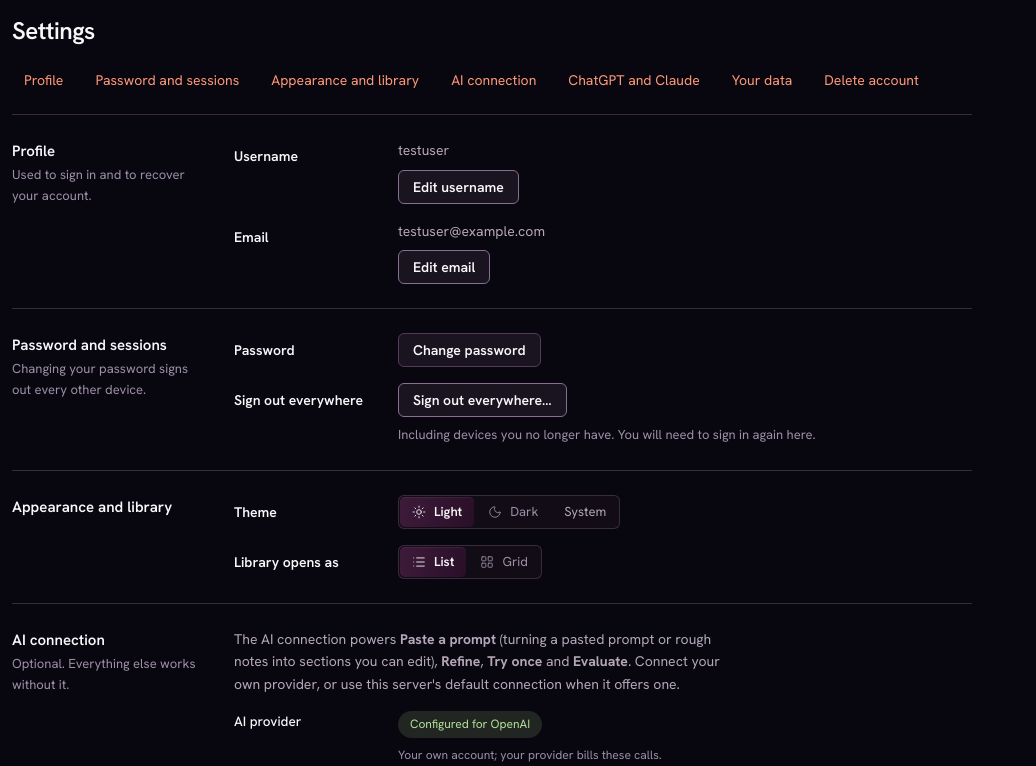
Test case: SettingsPage › shows an inline error when saving a malformed email instead of silently ignoring it
This screenshot has width=1036, height=766.
Click the button "Edit email". click: click(444, 267)
box: [398,250,490,284]
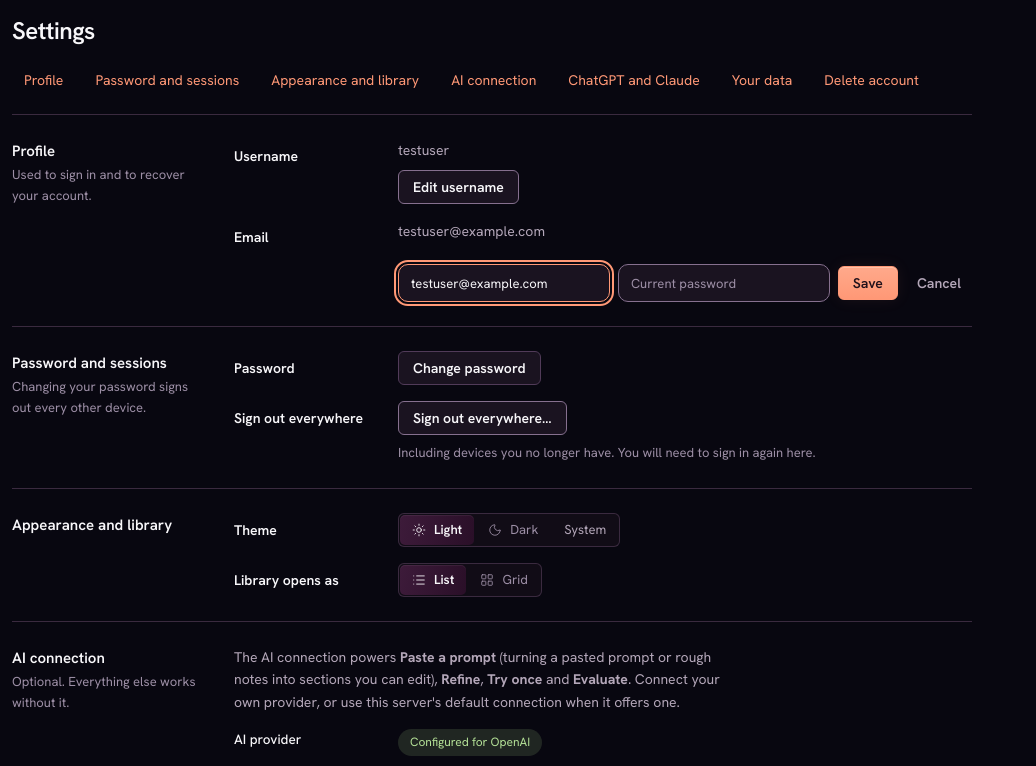
Replace the text in the field with placeholder "you@example.com" with "not-an-email". click: (504, 283)
box: [398,264,610,302]
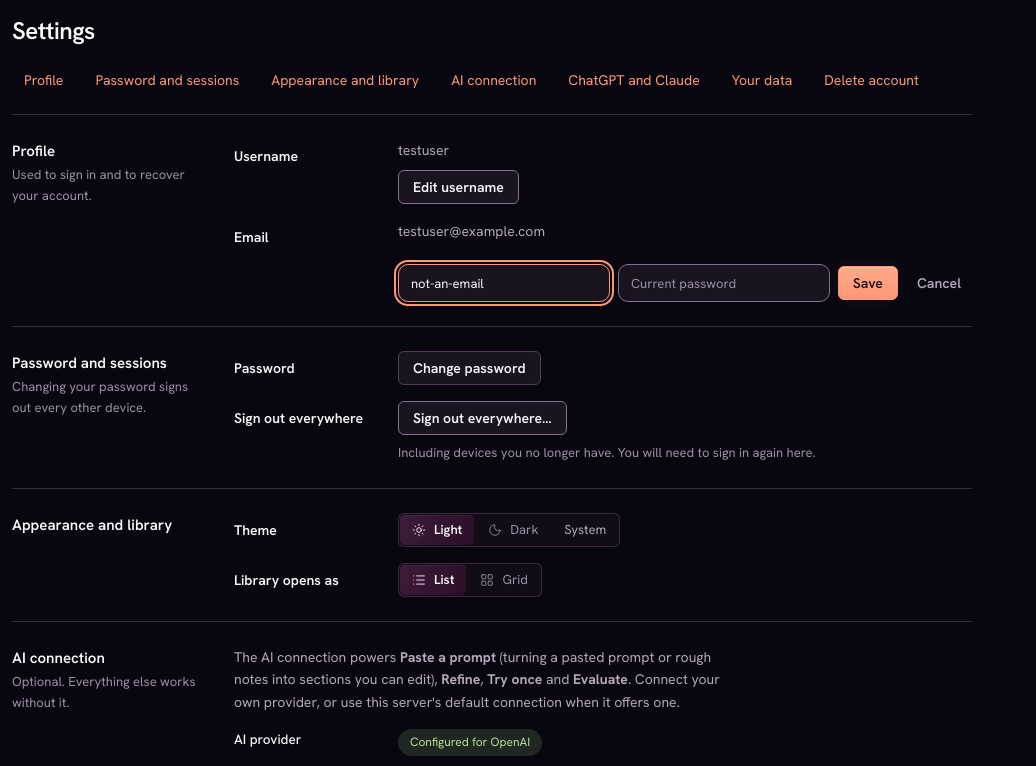
Click the button "Save". click: click(868, 283)
box: [838,266,898,300]
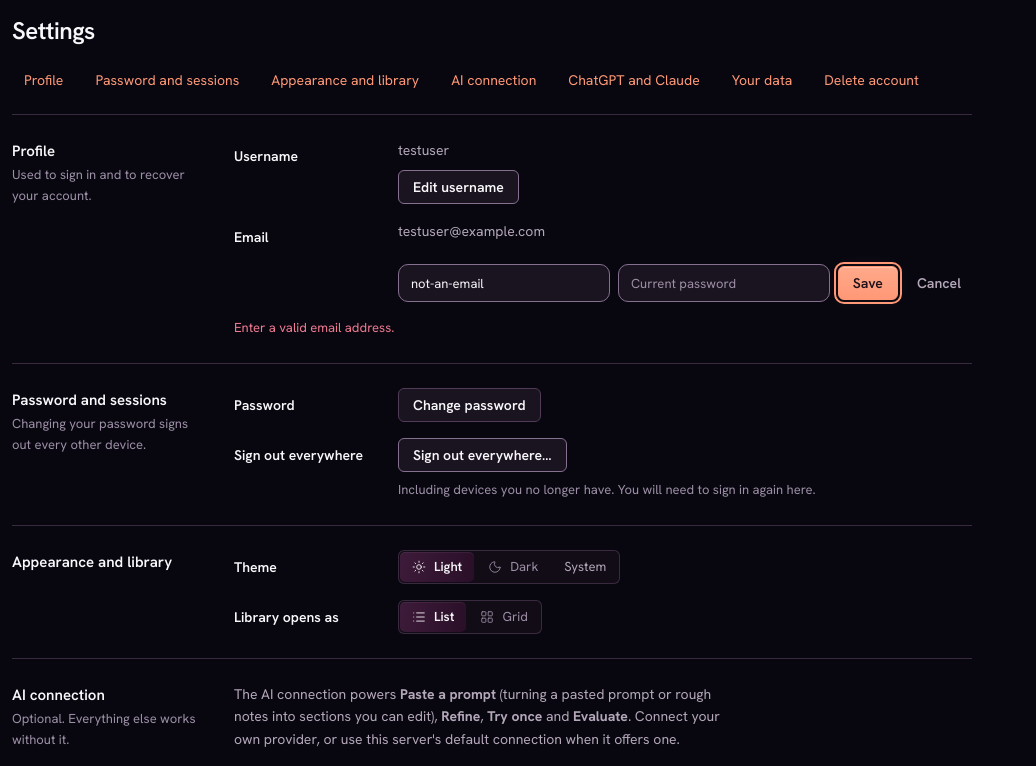
Expected: the message reads "Enter a valid email address.", [234,319,394,336]
